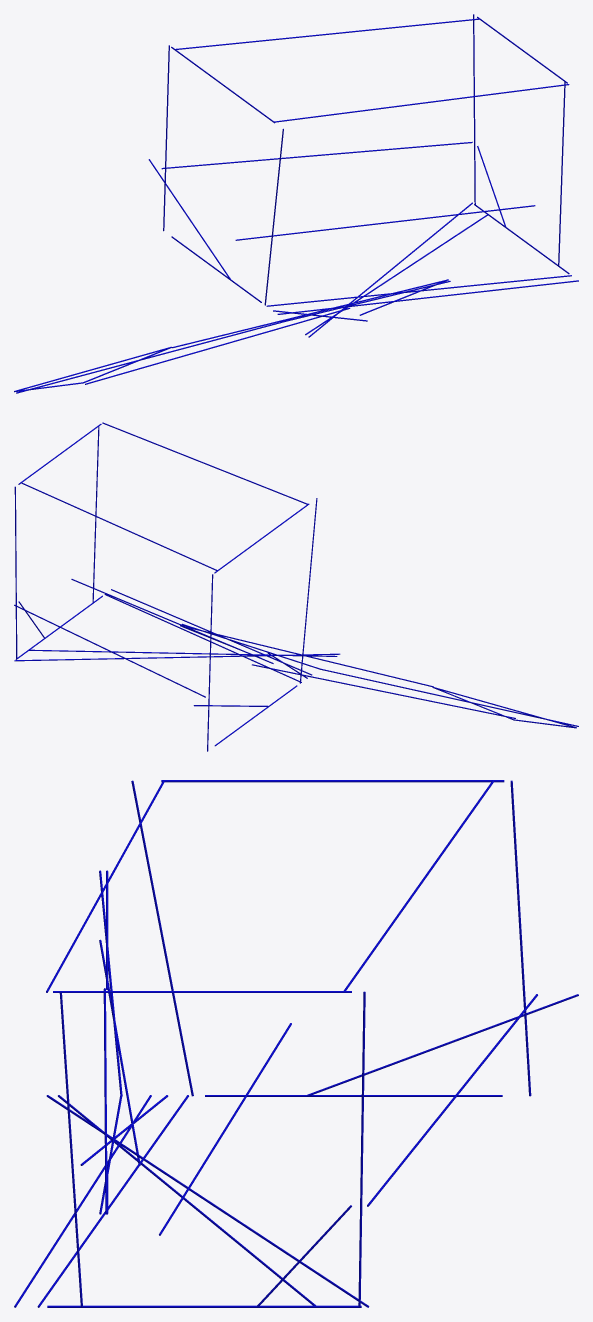
Rendered from corrected_3d_strokes.glb.
3 views of the same model, one above another, from view 1: azimuth 30°, elevation 25°; view 2: azimuth 150°, elevation 25°; view 3: azimuth 270°, elevation 25° (orthographic). The views are drawn at different scales.
Visible parts, largest first — view 1: world; view 2: world; view 3: world.
Boxes of the visible parts, x1,y1,x2,y2 form: world: (14, 14, 578, 393); world: (14, 422, 578, 751); world: (14, 780, 578, 1307).
Size of the model in its own units: 18.09 by 6.39 by 9.91.
